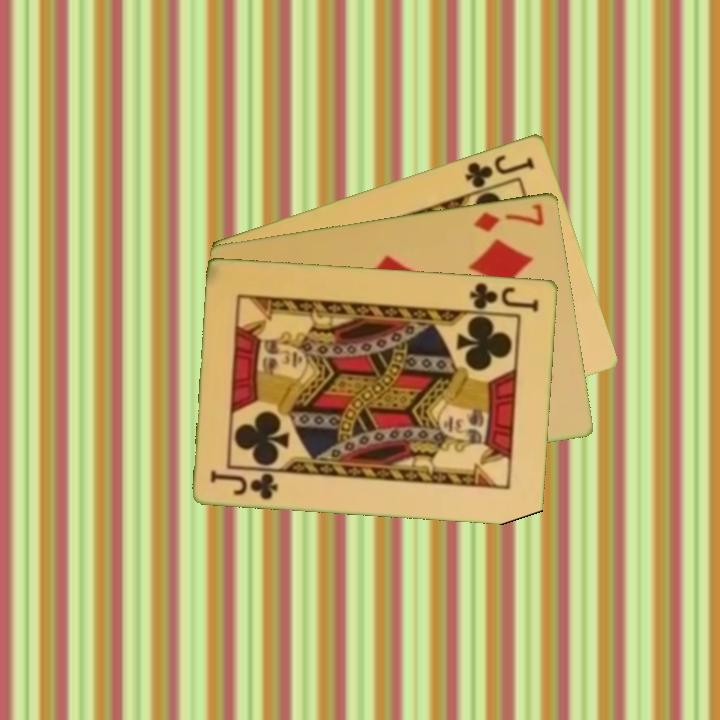7d: (471, 200, 547, 235)
Jc: (461, 150, 538, 191), (467, 278, 542, 315), (207, 466, 281, 502)
